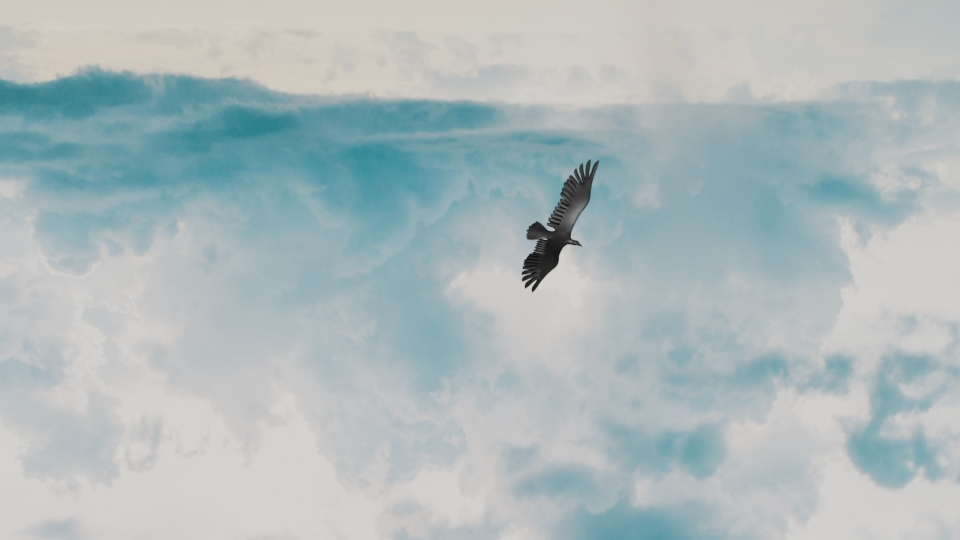bird: (516, 158, 601, 292)
